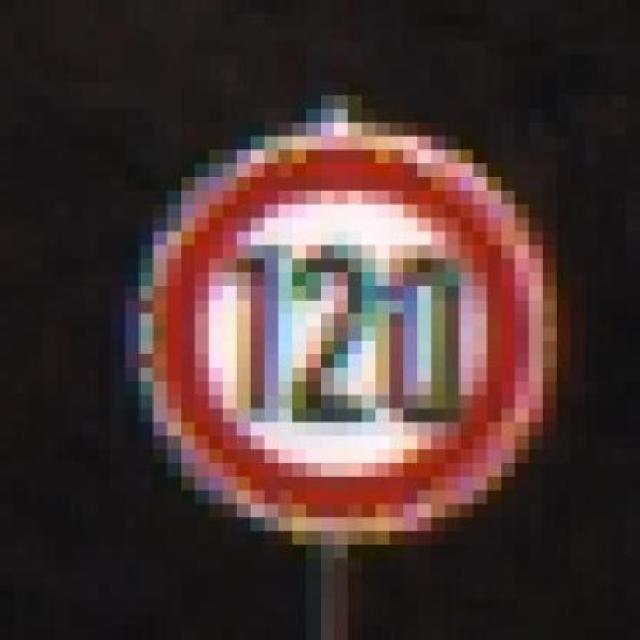forb_speed_over_120: (155, 143, 538, 535)
